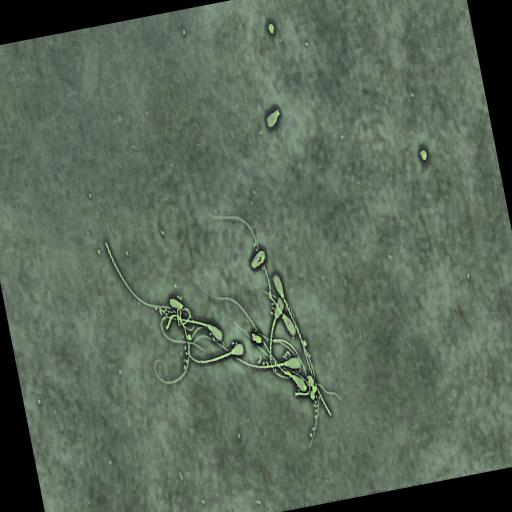dirt-particles: (307, 373, 318, 401), (419, 147, 429, 163), (267, 21, 276, 35)
folded-tail: (210, 216, 283, 314), (254, 332, 306, 375)
loose-head: (265, 106, 281, 130), (168, 296, 184, 311)
loose-tail: (262, 289, 333, 417), (103, 238, 173, 310), (153, 312, 191, 386)
normal: (208, 213, 298, 338), (272, 269, 320, 420), (193, 335, 301, 369), (248, 328, 308, 377), (159, 311, 224, 354), (185, 324, 247, 367), (266, 294, 292, 382), (248, 247, 266, 270)
